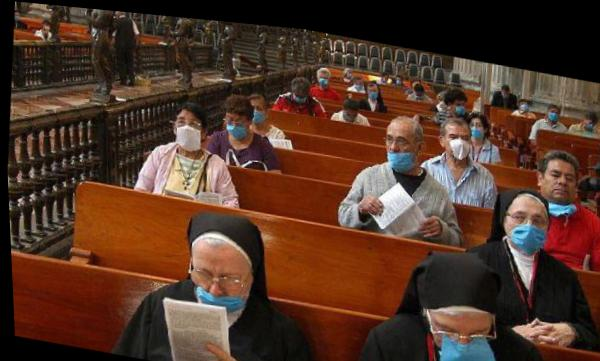OK: (501, 194, 549, 243), (174, 112, 206, 146), (442, 119, 472, 151), (225, 110, 249, 135), (247, 94, 269, 120), (469, 110, 487, 130), (292, 82, 308, 100), (366, 80, 381, 95), (317, 66, 331, 82), (343, 102, 358, 116), (452, 92, 464, 107), (548, 98, 559, 111), (519, 91, 530, 101), (585, 107, 594, 119)
WRONG: (426, 304, 496, 361), (184, 256, 241, 315), (538, 155, 579, 204), (384, 120, 420, 163)
